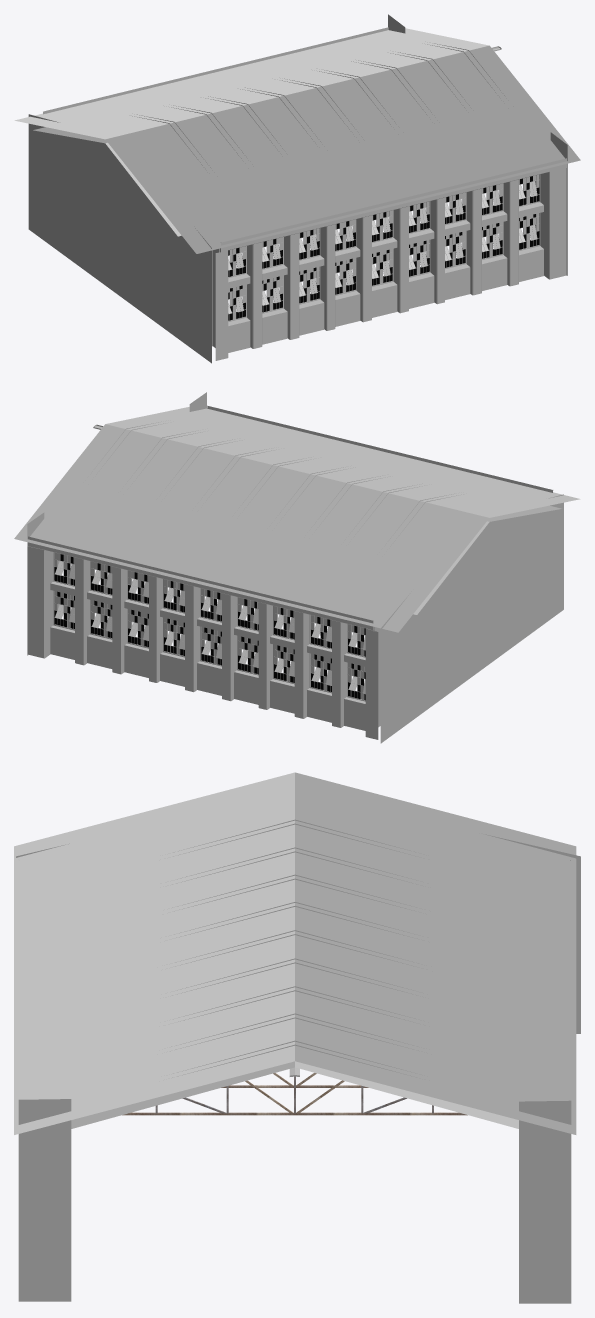
File: stage_background 1.fbx
3 renders of one model, top to bottom at view 1: azimuth 30°, elevation 25°; view 2: azimuth 150°, elevation 25°; view 3: azimuth 270°, elevation 25°, orthographic. The views are drawn at different scales.
Visible parts, largest first — view 1: ceiling2, wall1, pillar1, side_wall1, mirror, window, shadow_win, beam, pillar, side_wall, ceiling, pillar2; view 2: ceiling2, wall1, pillar1, side_wall1, mirror, window, shadow_win, beam, pillar, ceiling; view 3: ceiling2, pillar2, pillar3, beam, ceiling, metal, wall1.
Boxes of the visible parts, x1=… form: ceiling2: x1=14, y1=28, x2=580, y2=253; wall1: x1=28, y1=114, x2=211, y2=363; pillar1: x1=215, y1=168, x2=566, y2=360; side_wall1: x1=43, y1=27, x2=566, y2=352; mirror: x1=228, y1=174, x2=539, y2=319; window: x1=218, y1=174, x2=540, y2=321; shadow_win: x1=228, y1=176, x2=539, y2=320; beam: x1=132, y1=43, x2=504, y2=167; pillar: x1=212, y1=174, x2=543, y2=347; side_wall: x1=228, y1=202, x2=541, y2=323; ceiling: x1=33, y1=127, x2=181, y2=236; pillar2: x1=550, y1=132, x2=567, y2=275; ceiling2: x1=14, y1=407, x2=580, y2=632; wall1: x1=380, y1=494, x2=563, y2=743; pillar1: x1=27, y1=546, x2=378, y2=739; side_wall1: x1=28, y1=405, x2=553, y2=730; mirror: x1=54, y1=552, x2=365, y2=699; window: x1=53, y1=552, x2=375, y2=701; shadow_win: x1=54, y1=554, x2=365, y2=700; beam: x1=92, y1=421, x2=463, y2=546; pillar: x1=44, y1=550, x2=380, y2=727; ceiling: x1=413, y1=505, x2=561, y2=614; ceiling2: x1=14, y1=772, x2=576, y2=1134; pillar2: x1=18, y1=1099, x2=71, y2=1301; pillar3: x1=519, y1=1100, x2=571, y2=1303; beam: x1=170, y1=819, x2=418, y2=1077; ceiling: x1=71, y1=1061, x2=518, y2=1128; metal: x1=122, y1=1073, x2=467, y2=1115; wall1: x1=16, y1=834, x2=580, y2=1033.
Size of the model in its own units: 2982 by 1182 by 2409.
